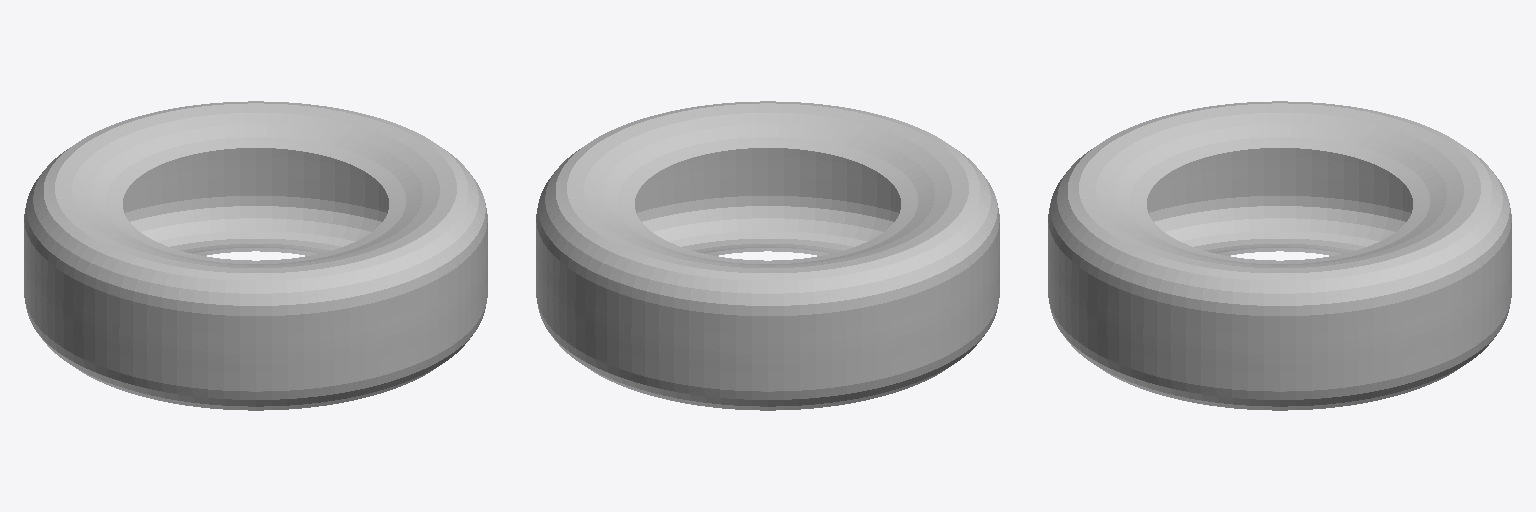
File: hmmwv_tire.obj
3 views of the same model, side by side, from view 1: azimuth 30°, elevation 25°; view 2: azimuth 150°, elevation 25°; view 3: azimuth 270°, elevation 25° (orthographic).
Size of the model in its own units: 0.9346 by 0.3 by 0.934.